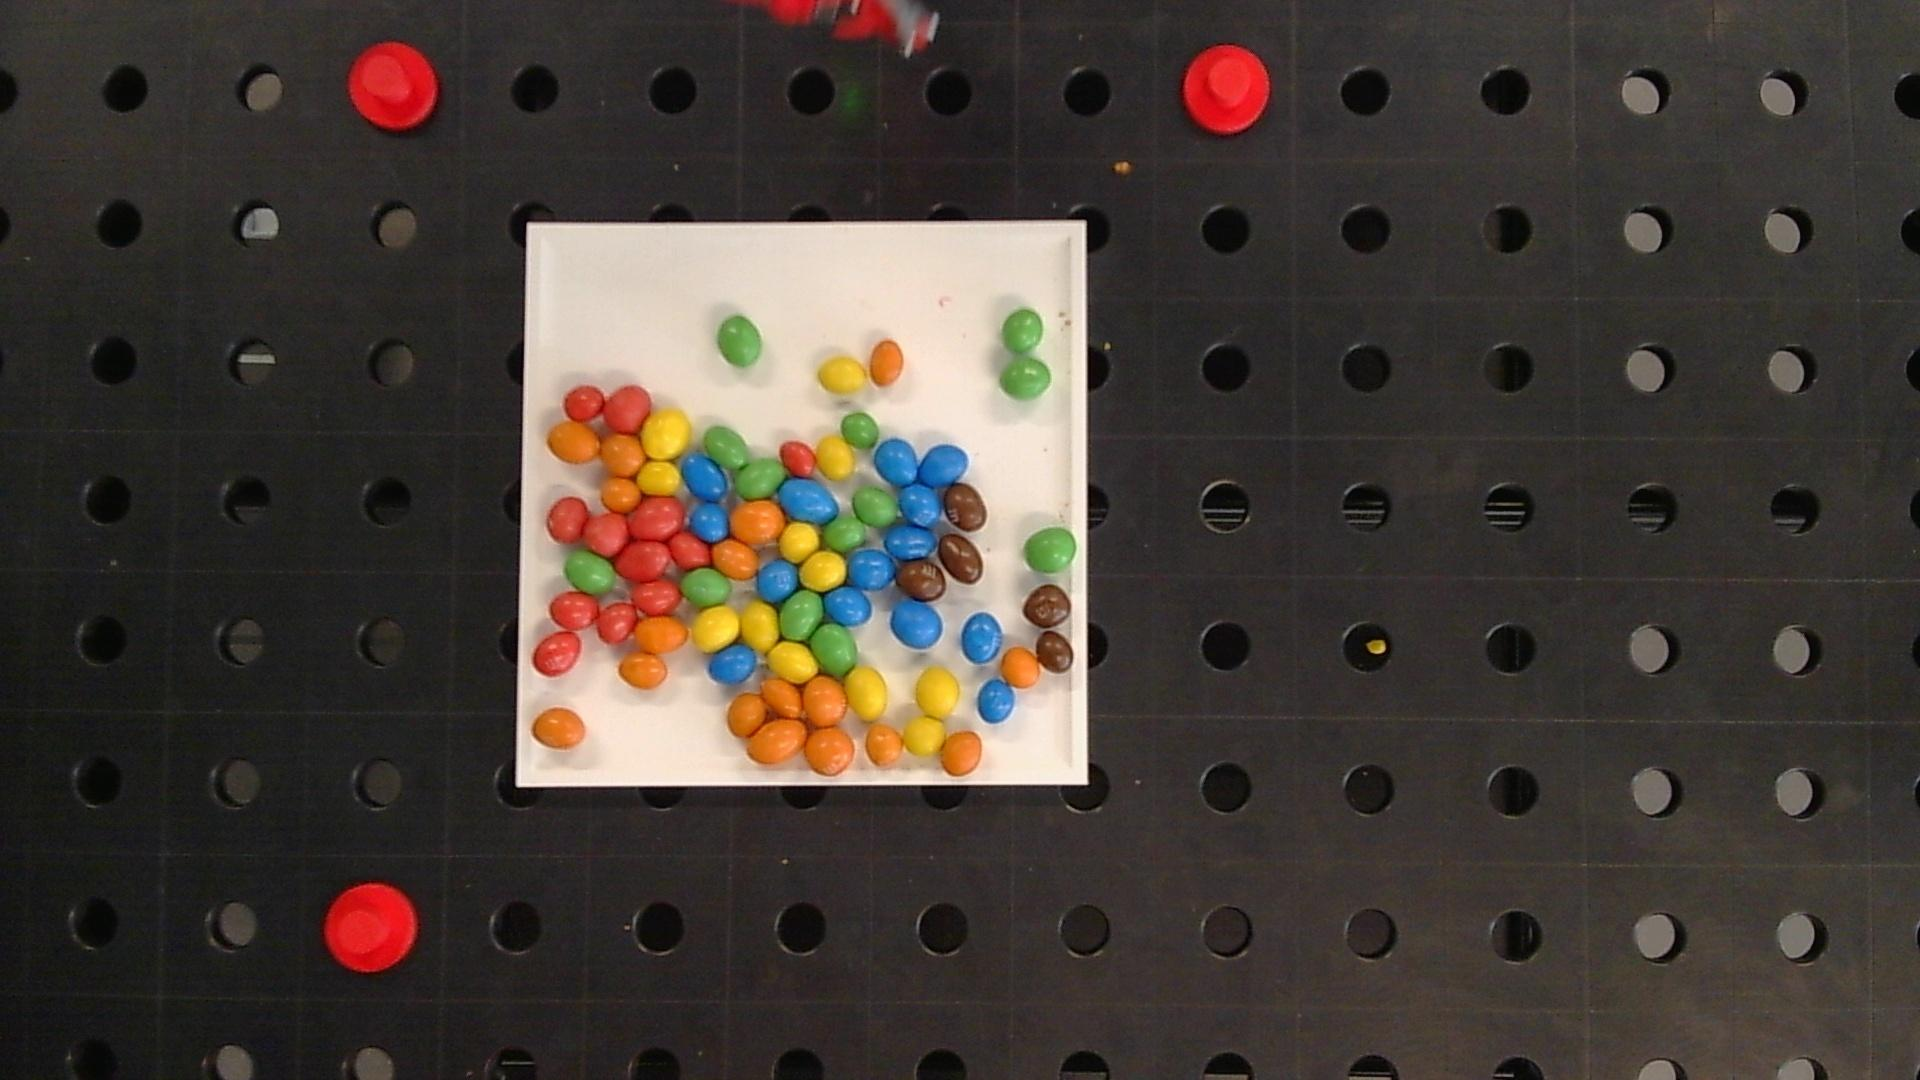blue: (885, 526, 945, 600), (890, 600, 943, 649), (779, 479, 840, 521), (961, 613, 1004, 663), (682, 455, 728, 500), (874, 438, 918, 485), (708, 645, 760, 684), (848, 550, 895, 591), (919, 444, 968, 484), (899, 484, 942, 527), (825, 588, 872, 626), (758, 559, 799, 600), (884, 526, 934, 559), (978, 679, 1015, 723), (688, 504, 729, 541)
brown: (938, 534, 984, 583), (1023, 584, 1071, 626), (945, 483, 986, 531), (897, 560, 945, 600), (1036, 630, 1073, 673)
green: (1025, 527, 1077, 572), (717, 315, 762, 367), (812, 624, 857, 674), (564, 550, 616, 593), (1000, 357, 1052, 400), (779, 591, 823, 640), (735, 458, 786, 498), (682, 568, 732, 607), (704, 426, 749, 468), (1002, 310, 1044, 353), (853, 487, 897, 527), (823, 514, 866, 551), (841, 413, 878, 447)
orange: (746, 719, 806, 764), (804, 728, 856, 774), (547, 422, 600, 463), (531, 708, 585, 748), (732, 502, 783, 543), (804, 678, 847, 725), (634, 616, 688, 651), (942, 731, 982, 777), (712, 538, 758, 579), (600, 433, 644, 475), (618, 653, 667, 688), (727, 692, 766, 736), (864, 724, 903, 766), (1001, 647, 1040, 687), (762, 678, 802, 716), (870, 340, 903, 385), (600, 477, 642, 512)
red: (617, 541, 670, 582), (630, 498, 683, 538), (533, 633, 582, 675), (605, 385, 650, 430), (585, 513, 629, 555), (547, 497, 588, 542), (550, 592, 599, 628), (632, 580, 679, 615), (596, 604, 637, 642), (563, 385, 605, 421), (670, 533, 709, 567), (779, 440, 815, 476)
yellow: (642, 410, 691, 458), (915, 667, 960, 716), (847, 667, 887, 720), (692, 607, 740, 651), (769, 642, 818, 682), (818, 356, 866, 393), (802, 551, 847, 591), (741, 603, 778, 650), (816, 435, 855, 479), (903, 716, 944, 754), (779, 524, 819, 560), (638, 462, 679, 495)
